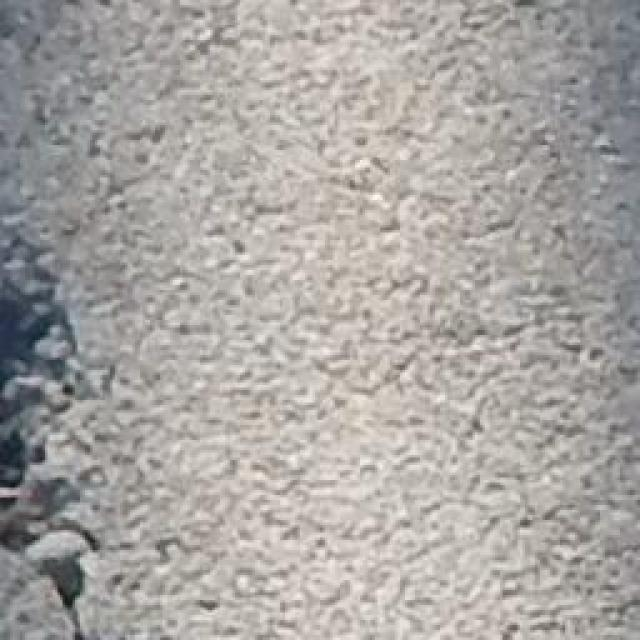concrete-crack: (0, 212, 102, 640)
